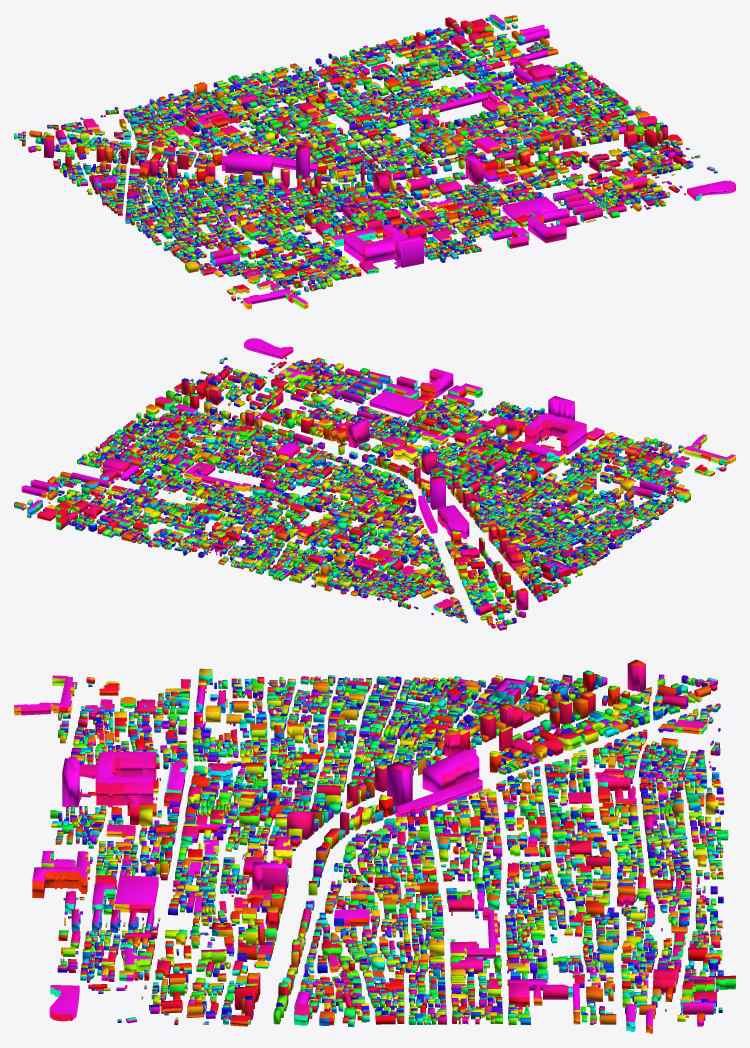
3 views of the same model, one above another, from view 1: azimuth 30°, elevation 25°; view 2: azimuth 150°, elevation 25°; view 3: azimuth 270°, elevation 25° (orthographic). The views are drawn at different scales.
Visible parts, largest first — view 1: BLD_d840575d-a359-49b8-b963-9e2cb59b4ed4; view 2: BLD_d840575d-a359-49b8-b963-9e2cb59b4ed4; view 3: BLD_d840575d-a359-49b8-b963-9e2cb59b4ed4.
Boxes of the visible parts, <box> form: BLD_d840575d-a359-49b8-b963-9e2cb59b4ed4: <box>14,14,735,309</box>; BLD_d840575d-a359-49b8-b963-9e2cb59b4ed4: <box>14,338,735,630</box>; BLD_d840575d-a359-49b8-b963-9e2cb59b4ed4: <box>14,659,735,1033</box>.
Bounding box in the file's own units: 1178 × 62.21 × 1013.
